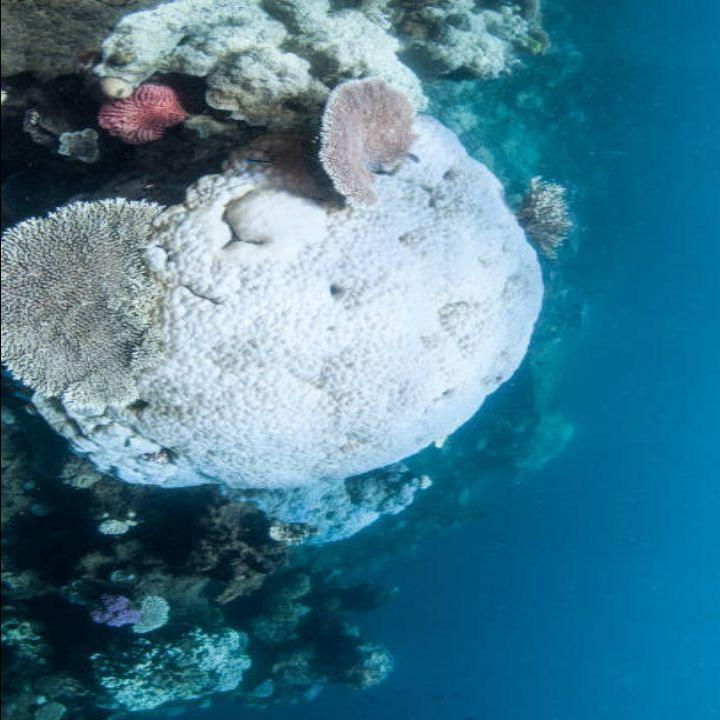Bleached disease: (15, 19, 544, 528)
